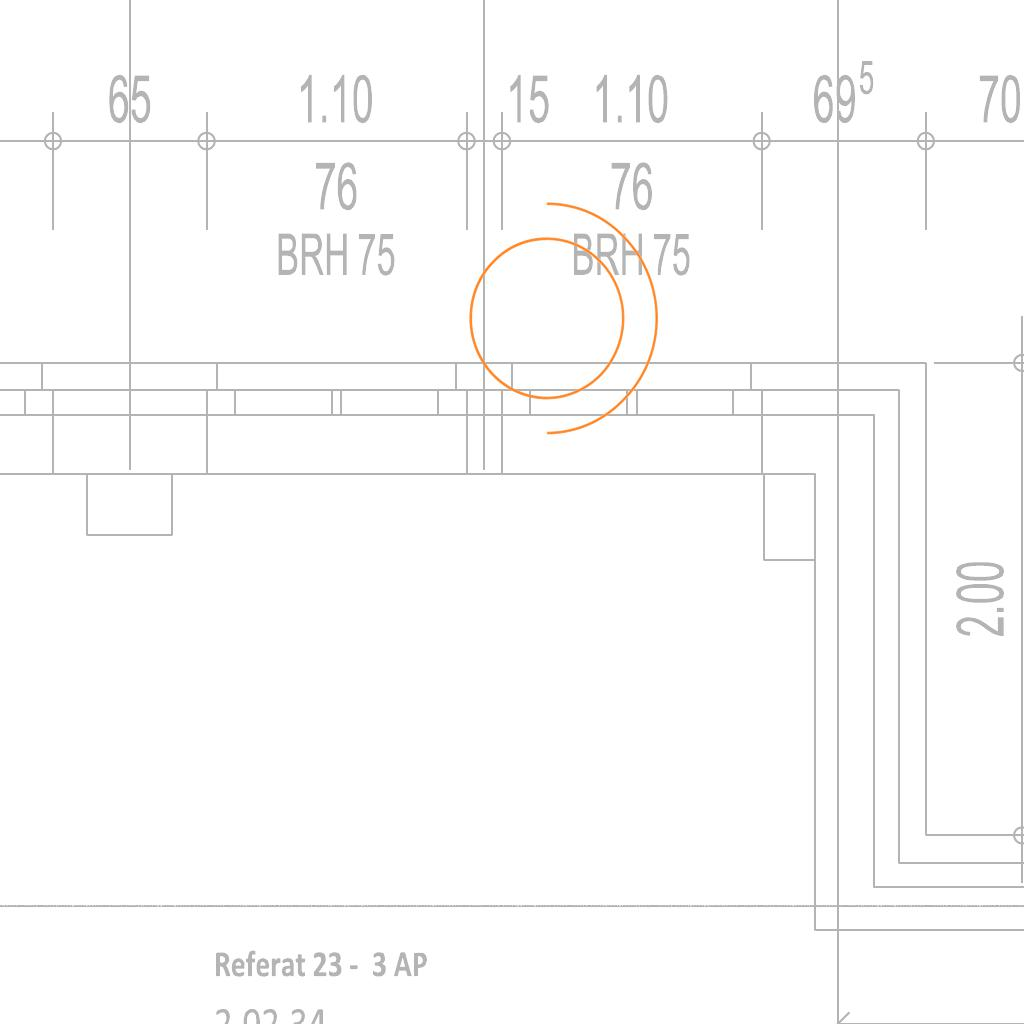Scheinwerfer_fuer_Alarmbeleuchtung: (444, 180, 669, 444)
